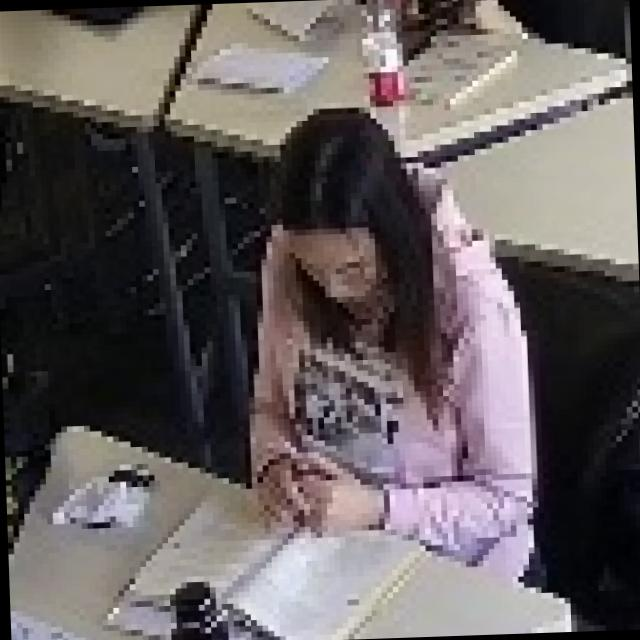write: (231, 102, 545, 639)
